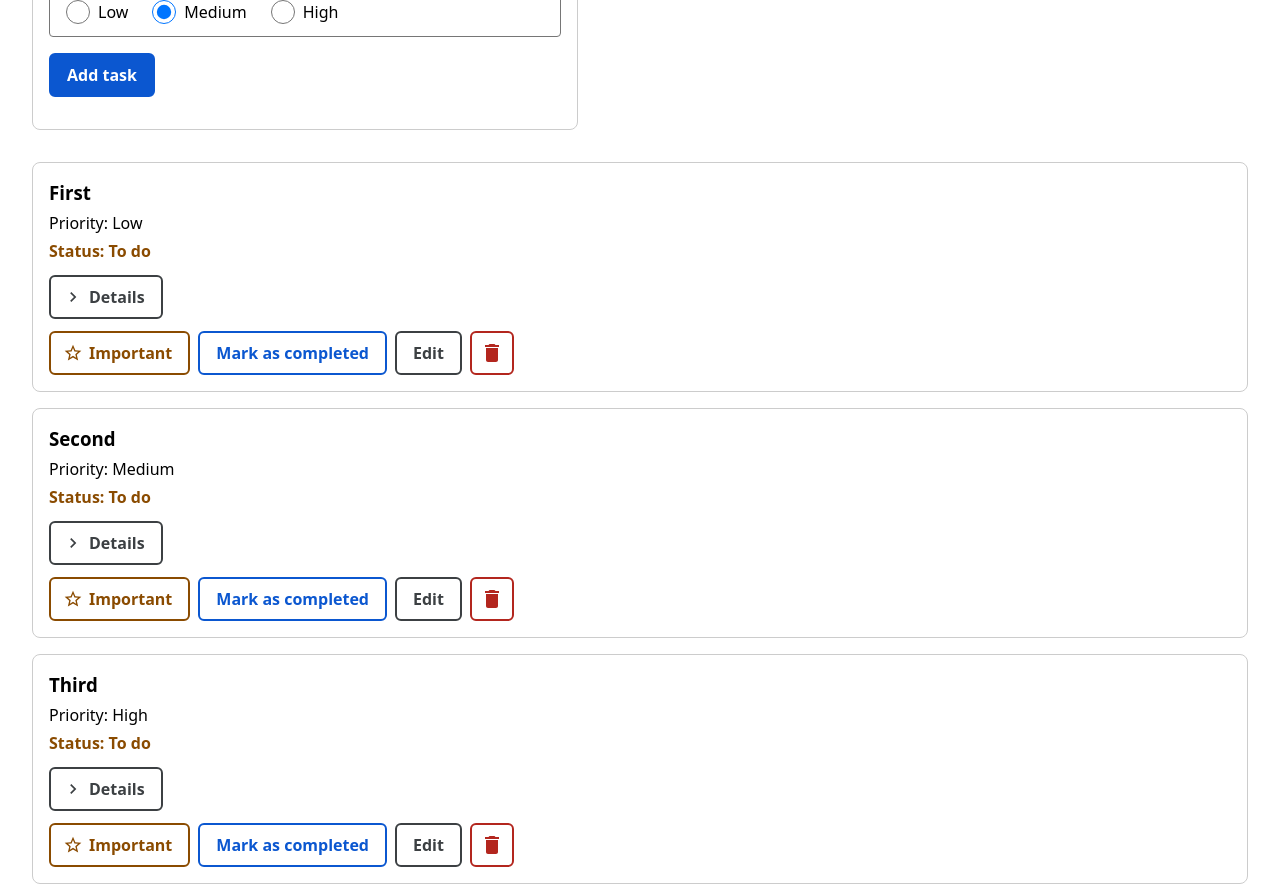
Test: Focus in edit mode › Edit moves focus to the title field, filled with the current title
(page scrolled)
Click the 2nd button "Edit" at (428, 599), box [395, 577, 462, 621]
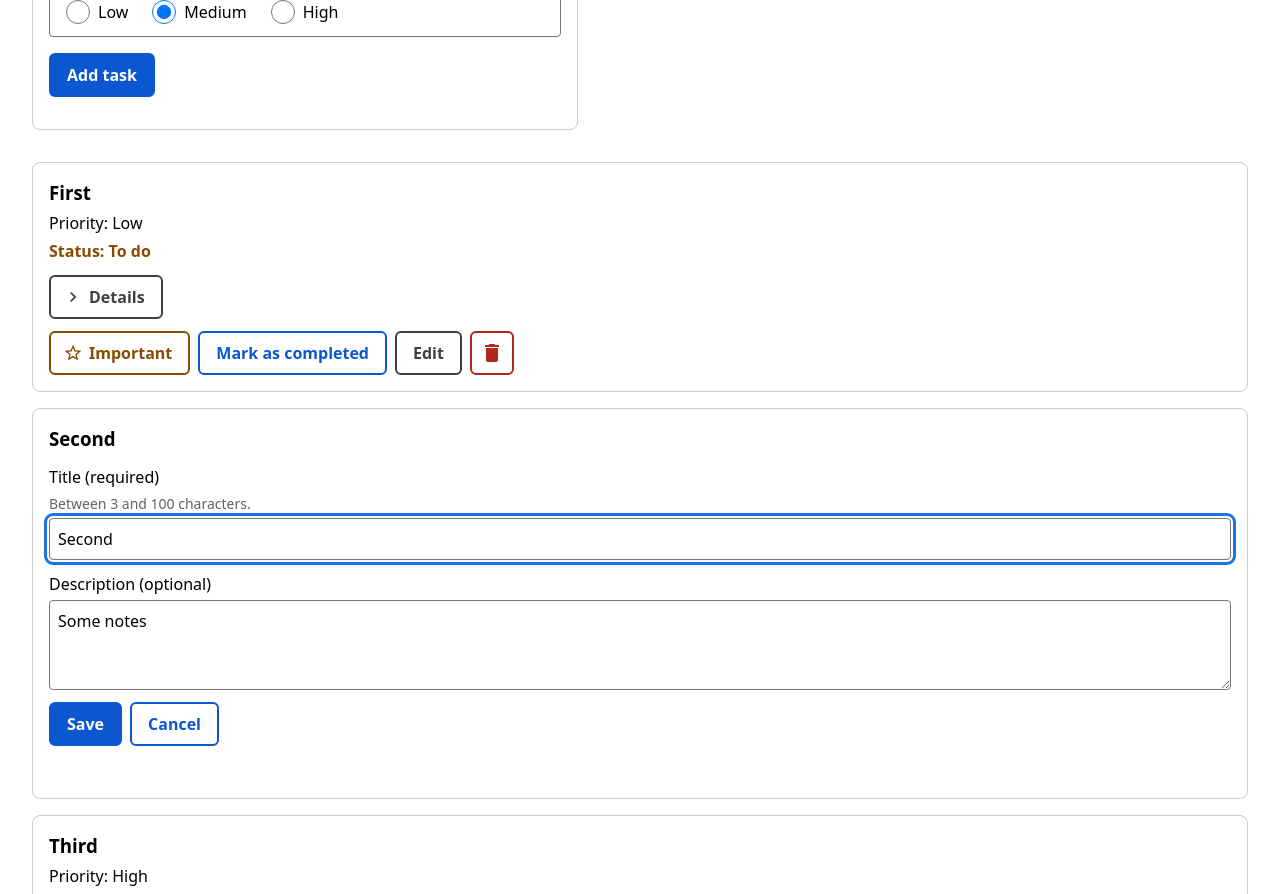
Expected: the field labelled "Title (required)" holds "Second", [49, 518, 1231, 560]
Expected: the text box labelled "Description (optional)" holds "Some notes", [49, 600, 1231, 690]
